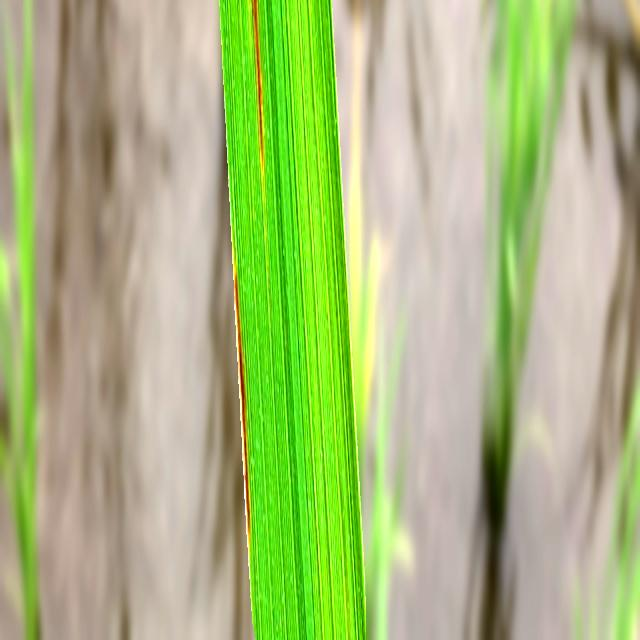NBS: (234, 267, 250, 546), (251, 0, 264, 178)
